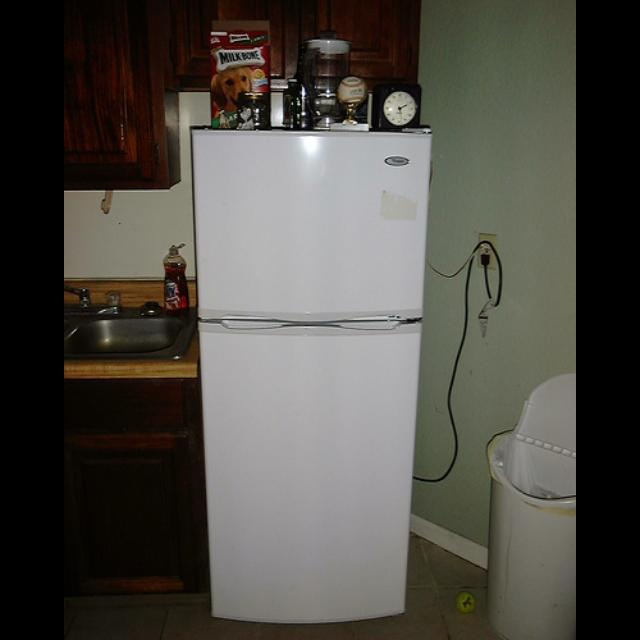Refrigerator: (189, 128, 432, 626)
